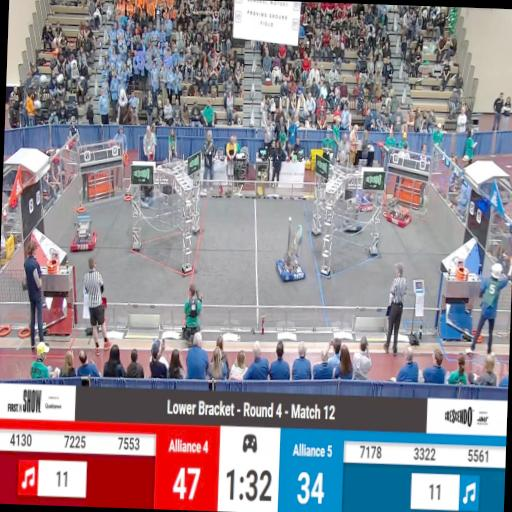robot: (70, 214, 98, 250), (276, 253, 304, 282), (384, 202, 411, 228), (357, 193, 374, 212)
